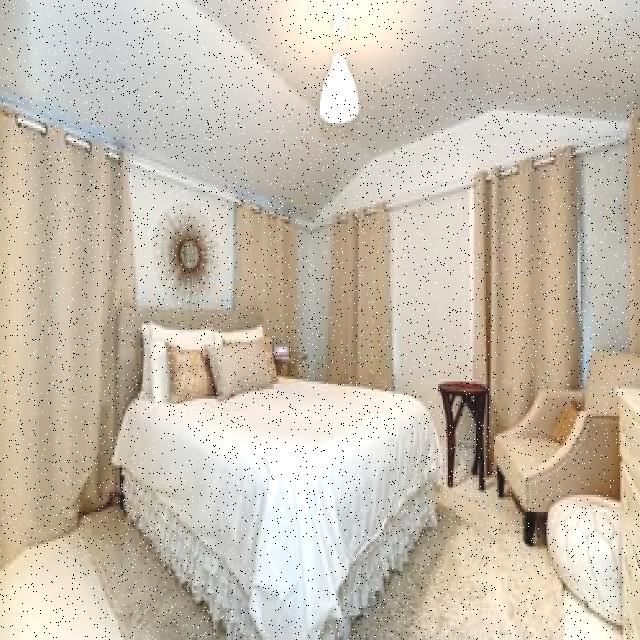bed: (114, 314, 425, 543)
